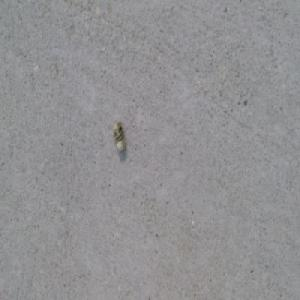BoltNutSet: (112, 121, 126, 153)
